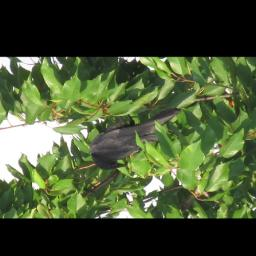Crow: (89, 108, 183, 170)
